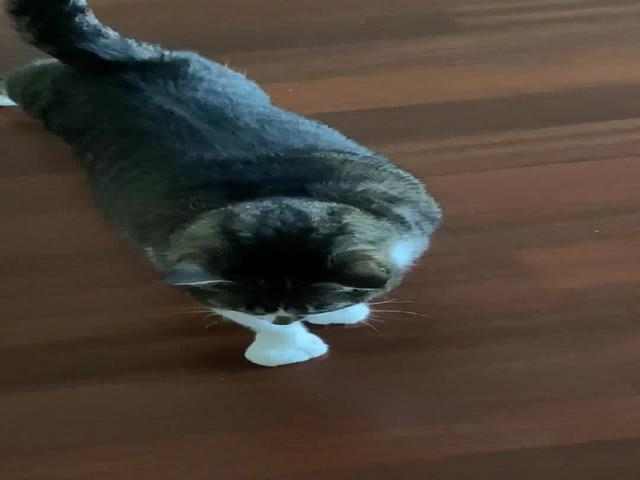playdoh: (1, 1, 446, 366)
